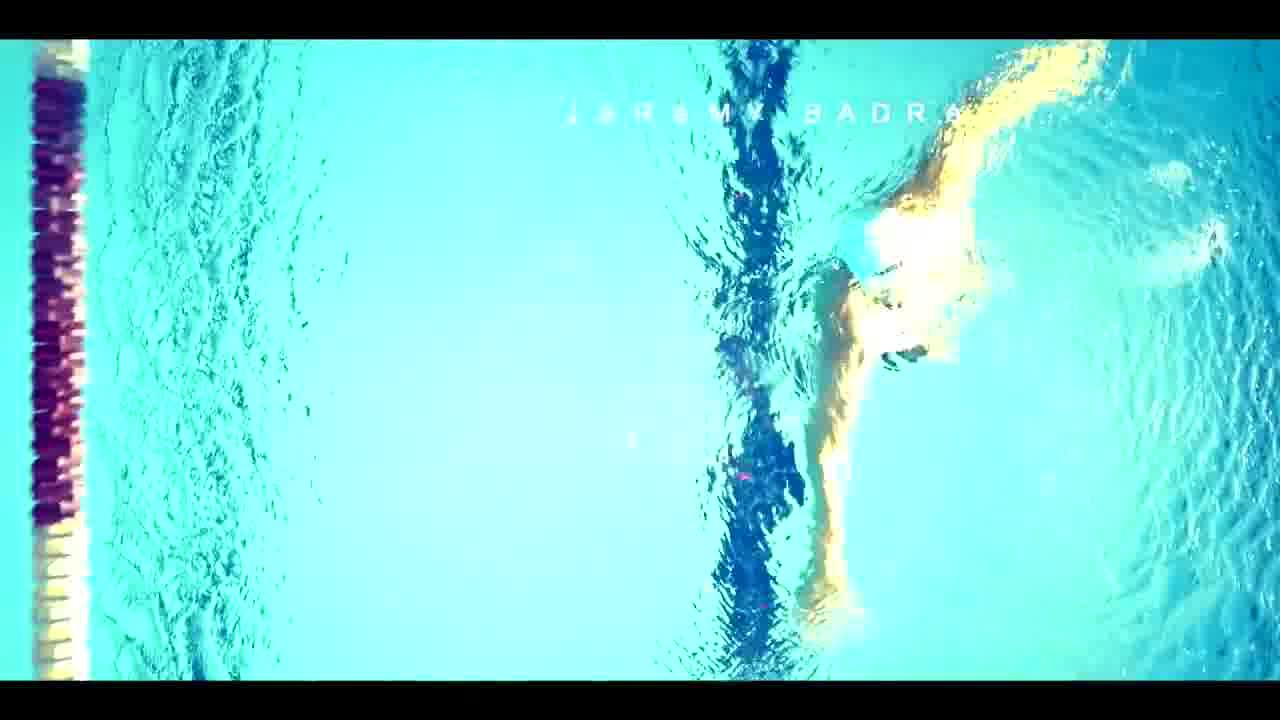swimmer: (709, 46, 1179, 633)
